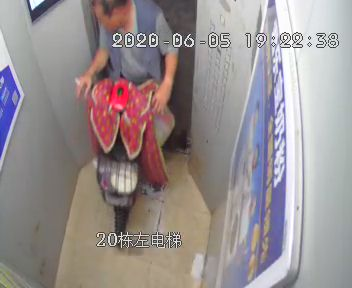Electric-bicycle: (76, 63, 172, 239)
